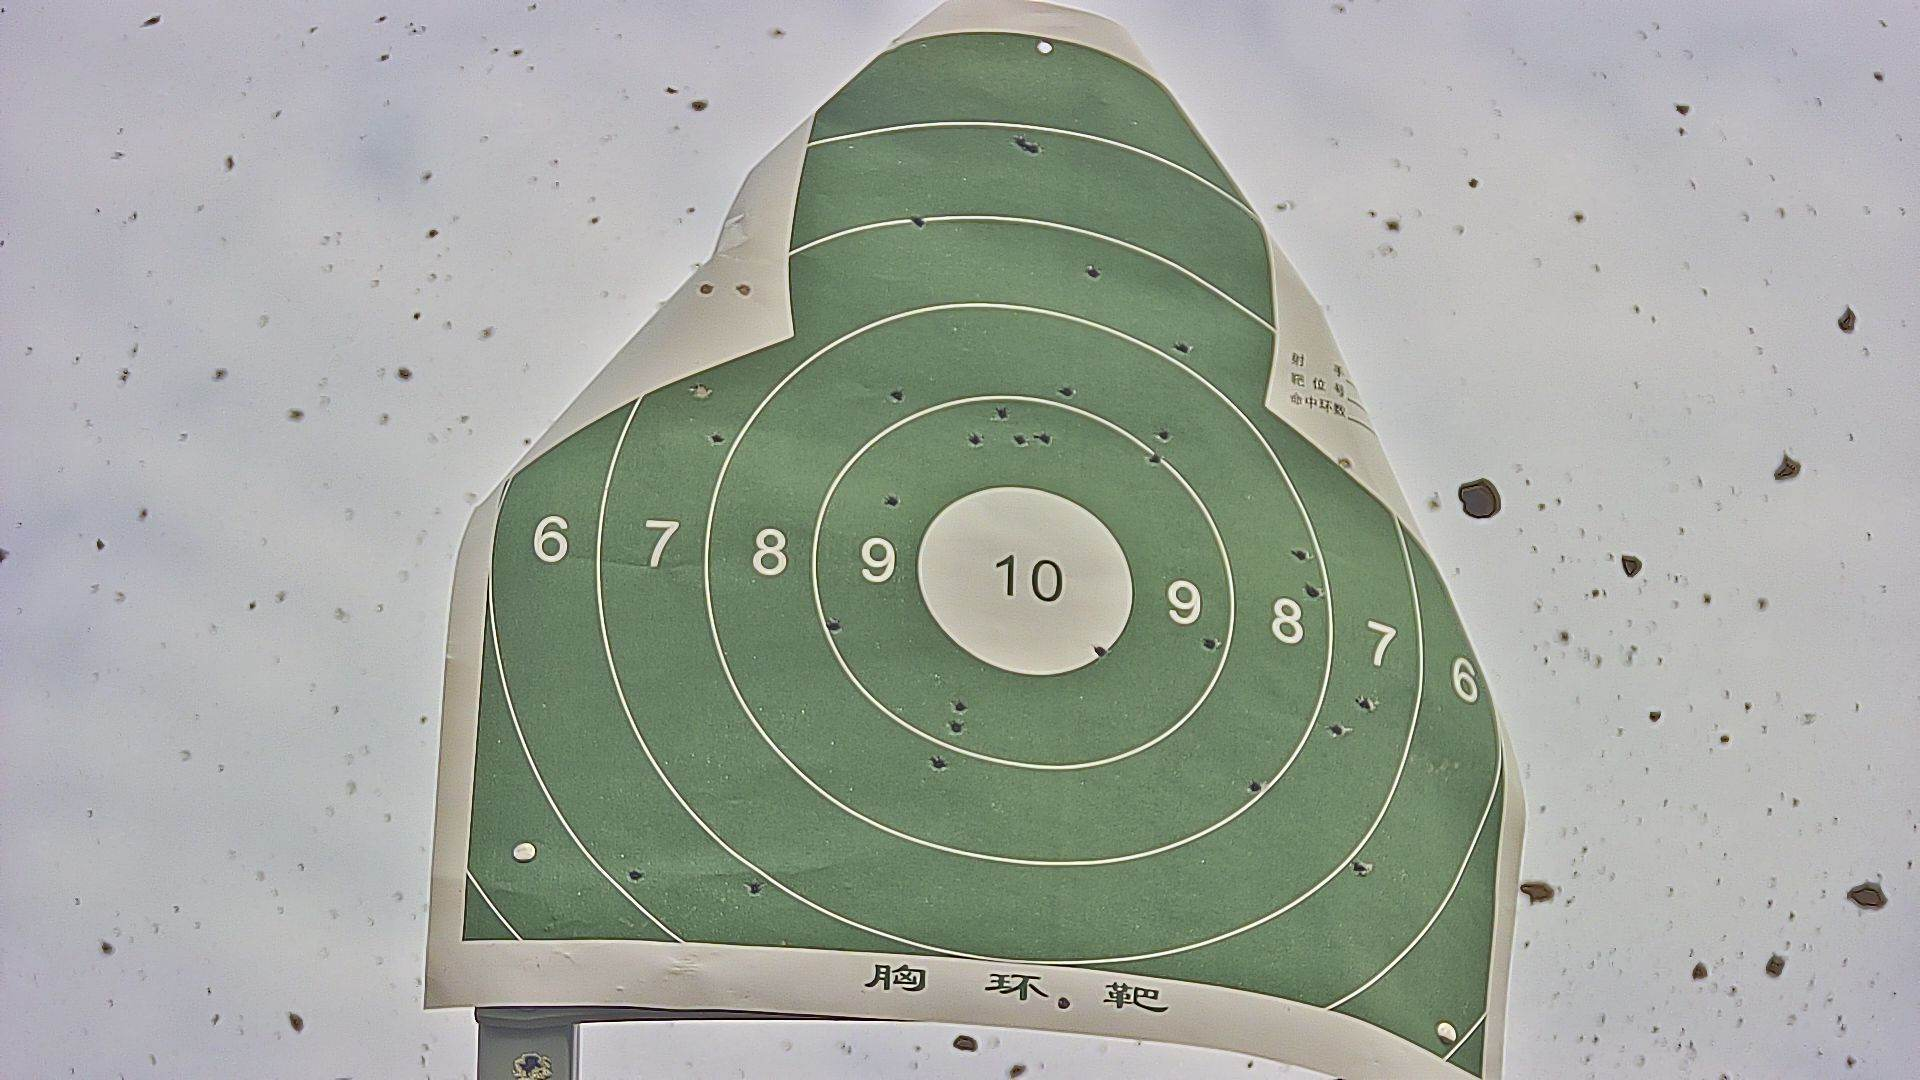.: (1338, 456, 1354, 469)
hole: (1304, 582, 1323, 601), (1055, 382, 1077, 397), (1034, 40, 1054, 55), (1352, 860, 1373, 874), (1327, 723, 1348, 737), (735, 282, 753, 298), (1356, 695, 1371, 712), (691, 385, 709, 400), (884, 492, 899, 508), (827, 618, 843, 634), (930, 756, 945, 771), (1158, 427, 1174, 443), (1288, 549, 1309, 560), (1093, 642, 1108, 659), (1055, 994, 1073, 1007), (1204, 636, 1222, 649), (1172, 342, 1195, 352), (890, 386, 905, 402), (1013, 431, 1027, 447), (968, 431, 981, 448), (629, 869, 644, 884), (1026, 141, 1039, 157), (948, 720, 964, 733), (952, 699, 967, 712), (1036, 429, 1050, 443), (1247, 779, 1262, 793), (996, 404, 1007, 419), (910, 214, 923, 227), (709, 433, 723, 446), (746, 882, 761, 894), (1087, 265, 1098, 278), (700, 284, 713, 295), (1013, 135, 1025, 146), (1150, 450, 1160, 463)
kernel: (1021, 574, 1027, 582)
target: (458, 28, 1491, 1080)
ten: (913, 487, 1131, 678)
